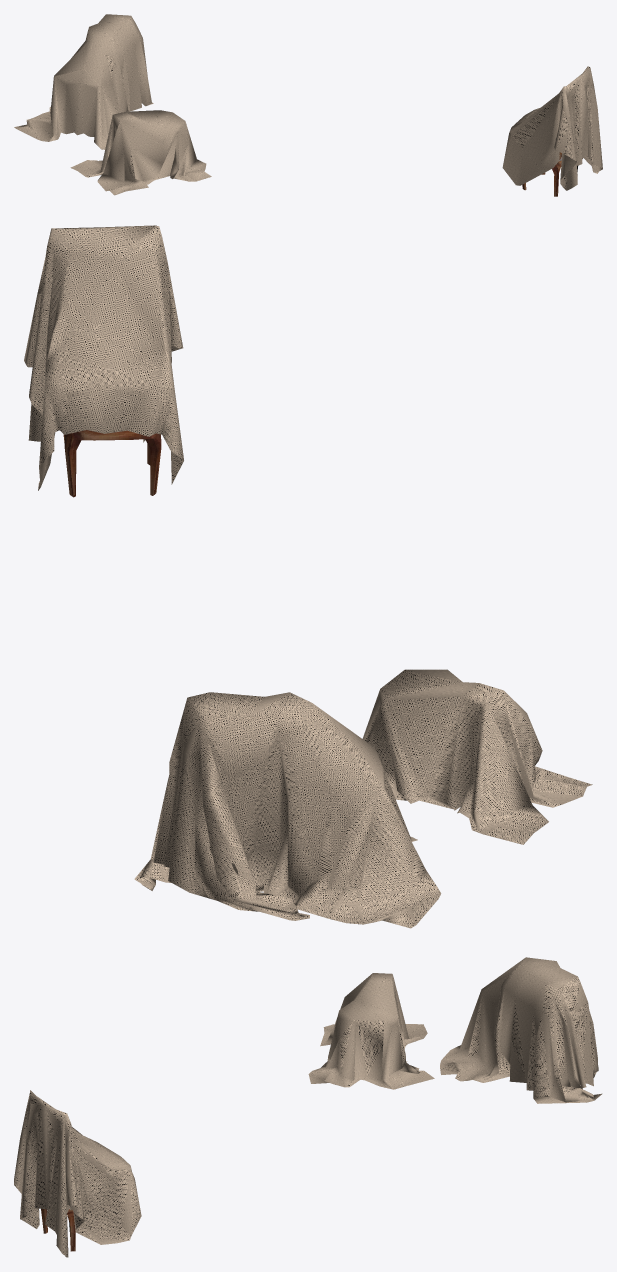
The model's file is drap-grenier.glb.
3 renders of one model, top to bottom at view 1: azimuth 30°, elevation 25°; view 2: azimuth 150°, elevation 25°; view 3: azimuth 270°, elevation 25°, orthographic. The views are drawn at different scales.
Parts seen in each view (by area): view 1: 2.002, 3Chaise.001, 1.002, Chair; view 2: 2.002, 3Chaise.001, 1.002, Chair; view 3: 2.002, 3Chaise.001, 1.002.
Boxes of the visible parts, x1,y1,x2,y2 form: 2.002: [14, 14, 153, 149]; 3Chaise.001: [502, 66, 602, 190]; 1.002: [70, 110, 211, 195]; Chair: [522, 152, 577, 196]; 2.002: [134, 692, 441, 928]; 3Chaise.001: [24, 225, 183, 490]; 1.002: [362, 669, 592, 844]; Chair: [63, 430, 161, 497]; 2.002: [440, 957, 602, 1103]; 3Chaise.001: [14, 1090, 141, 1257]; 1.002: [308, 973, 434, 1089].
Size of the model in its own units: 5.89 by 1.66 by 6.11.
2 materials, 2 textured.
